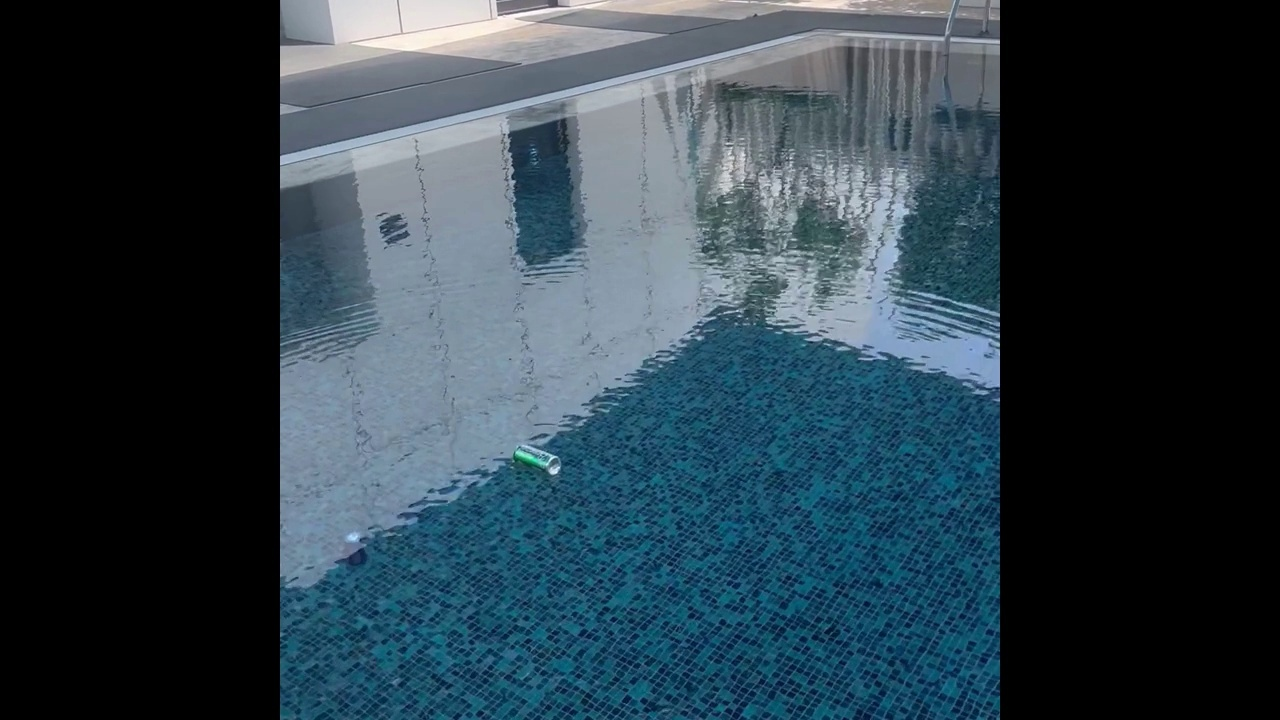debris: (506, 437, 564, 483), (340, 526, 366, 567)
